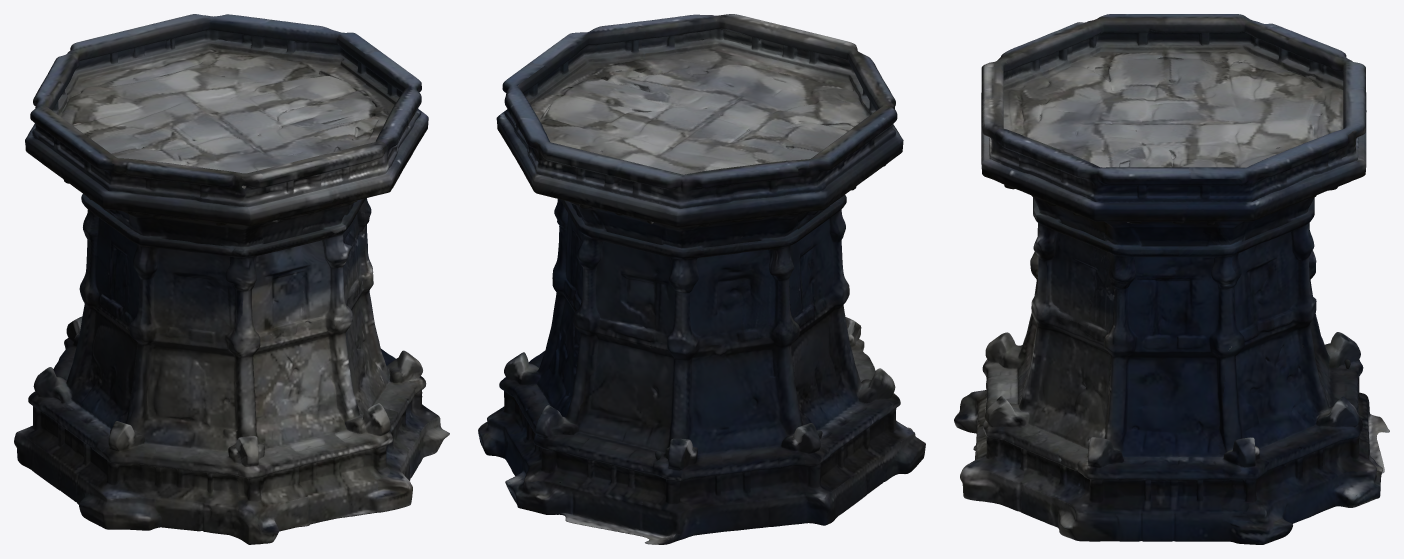
Rendered from wieza.glb.
The picture shows the model from 3 angles, left to right: view 1: azimuth 30°, elevation 25°; view 2: azimuth 150°, elevation 25°; view 3: azimuth 270°, elevation 25°; orthographic projection. The views are drawn at different scales.
Visible parts, largest first — view 1: tripo_node_7495fd08-3fbe-40be-90b9-8ba21d76f35f; view 2: tripo_node_7495fd08-3fbe-40be-90b9-8ba21d76f35f; view 3: tripo_node_7495fd08-3fbe-40be-90b9-8ba21d76f35f.
Boxes of the visible parts, x1,y1,x2,y2 form: tripo_node_7495fd08-3fbe-40be-90b9-8ba21d76f35f: (14,14,449,544); tripo_node_7495fd08-3fbe-40be-90b9-8ba21d76f35f: (478,14,925,544); tripo_node_7495fd08-3fbe-40be-90b9-8ba21d76f35f: (954,14,1389,544).
Bounding box in the file's own units: 0.9625 × 0.9958 × 1.
Materials: 1 (1 with a texture image).
